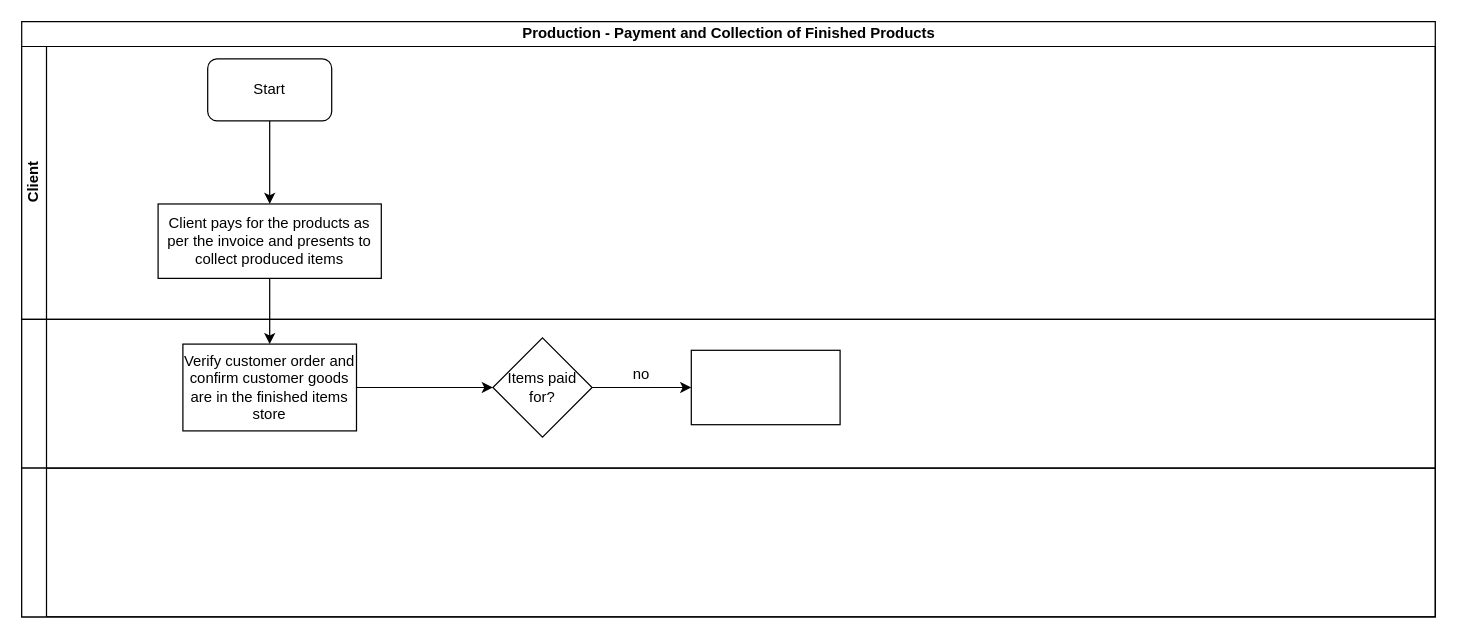
The diagram is 1457 pixels wide and 639 high, and some of its shapes have lost their labels. Here are the shapes that lost their labels. From the top down, the box of each, then its label:
(20, 318, 1435, 468): Receptionist
(690, 349, 840, 425): Request customer to pay
(20, 467, 1435, 617): SLT
